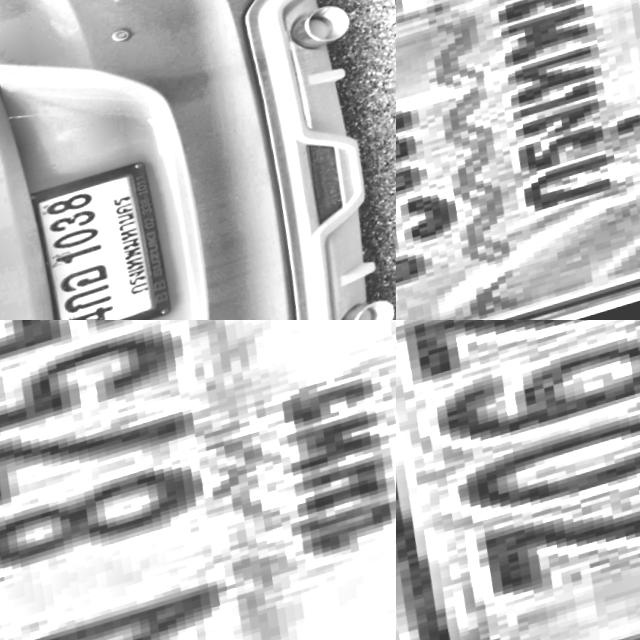license-plate: (0, 320, 396, 640), (396, 0, 640, 320), (396, 320, 640, 640), (20, 161, 181, 320)
